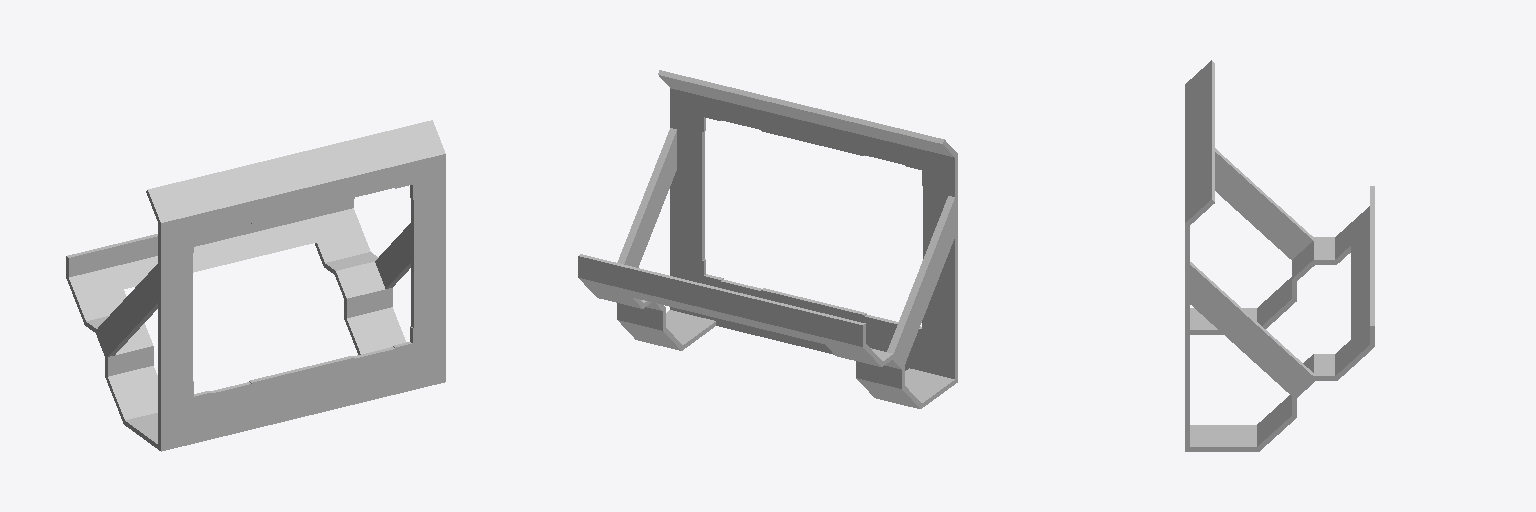
The model's file is case_stand.obj.
3 views of the same model, side by side, from view 1: azimuth 30°, elevation 25°; view 2: azimuth 150°, elevation 25°; view 3: azimuth 270°, elevation 25° (orthographic).
Parts seen in each view (by area): view 1: Body002; view 2: Body002; view 3: Body002.
Part boxes in pixels (x1,y1,x2,y2): Body002: (66,120,445,451); Body002: (578,70,957,408); Body002: (1185,60,1374,451).
Size of the model in its own units: 124 by 105 by 71.5.